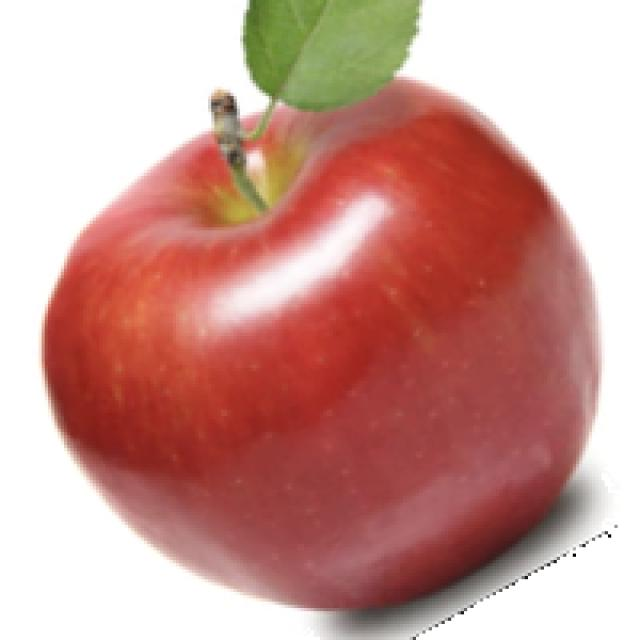apple: (35, 10, 618, 637)
